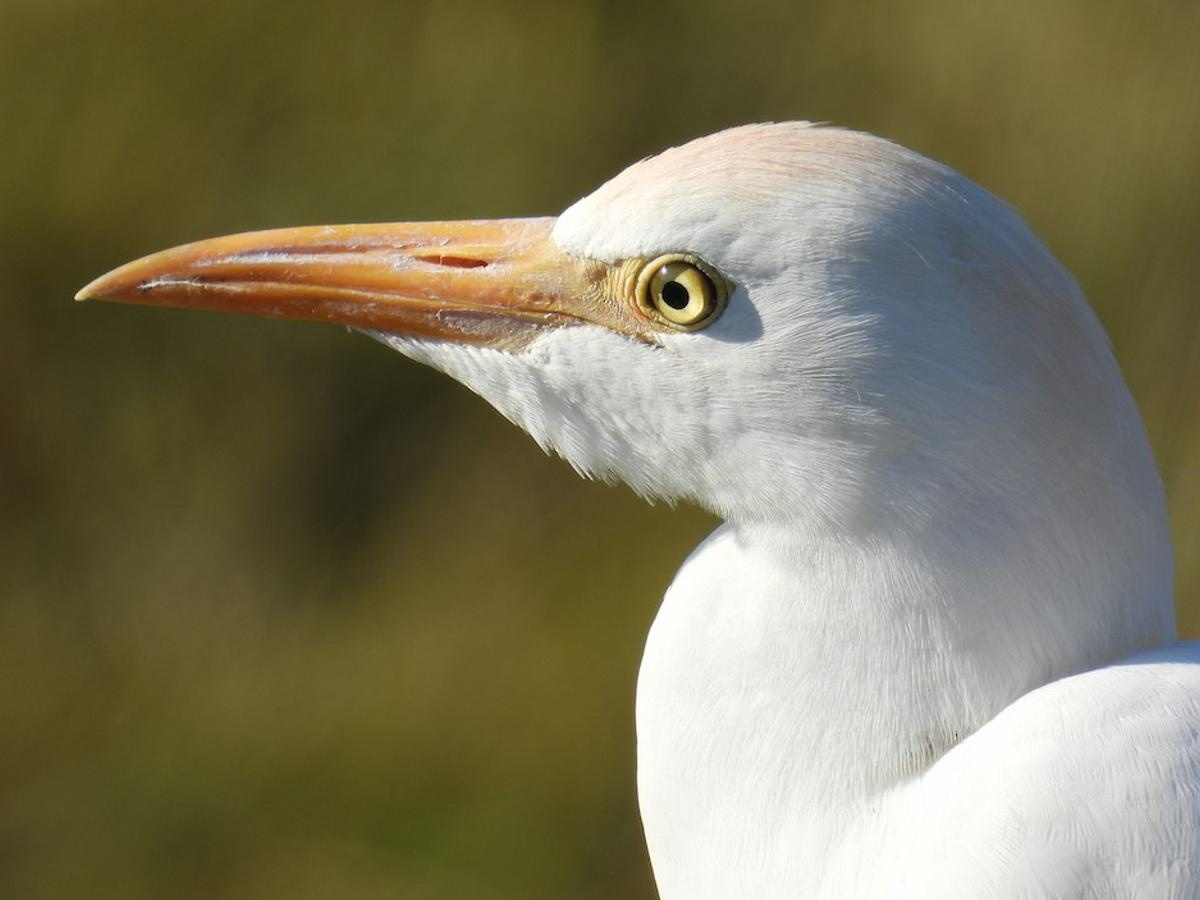egret: (63, 114, 1200, 900)
